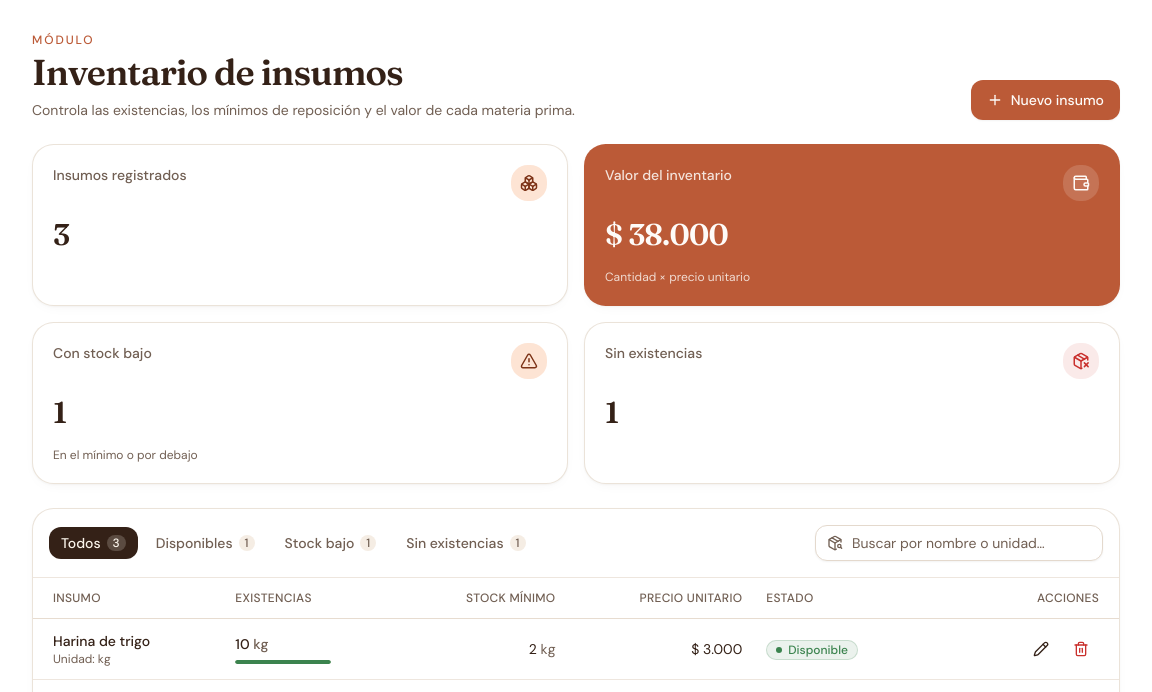
Test: Crear insumo › envía el contrato real del POST con textos recortados y números JSON, y recarga la lista
The image size is (1152, 692).
Expected: the cell "Harina de trigo Unidad: kg" is shown, [33,618,223,679]
Click the button "Nuevo insumo". click: (1045, 100)
box: [971,80,1120,120]
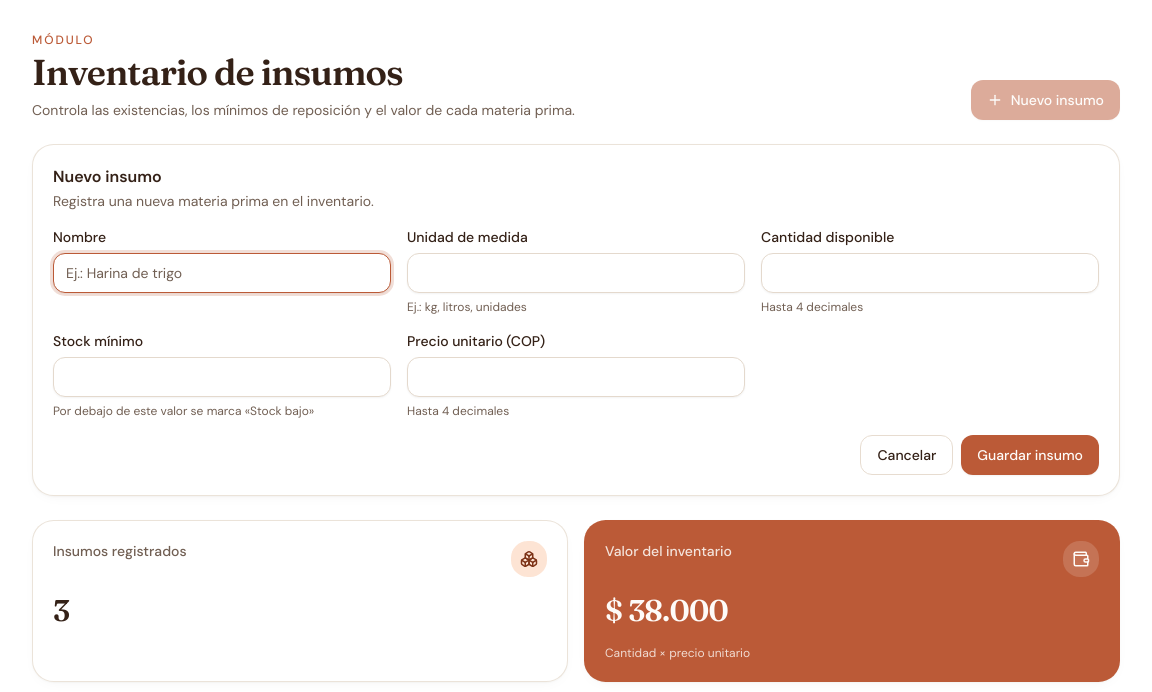
Type "  Sal marina  " into the field labelled "Nombre". click: (222, 273)
box: [53,253,391,293]
Type " kg " into the field labelled "Unidad de medida". click: (576, 273)
box: [407,253,745,293]
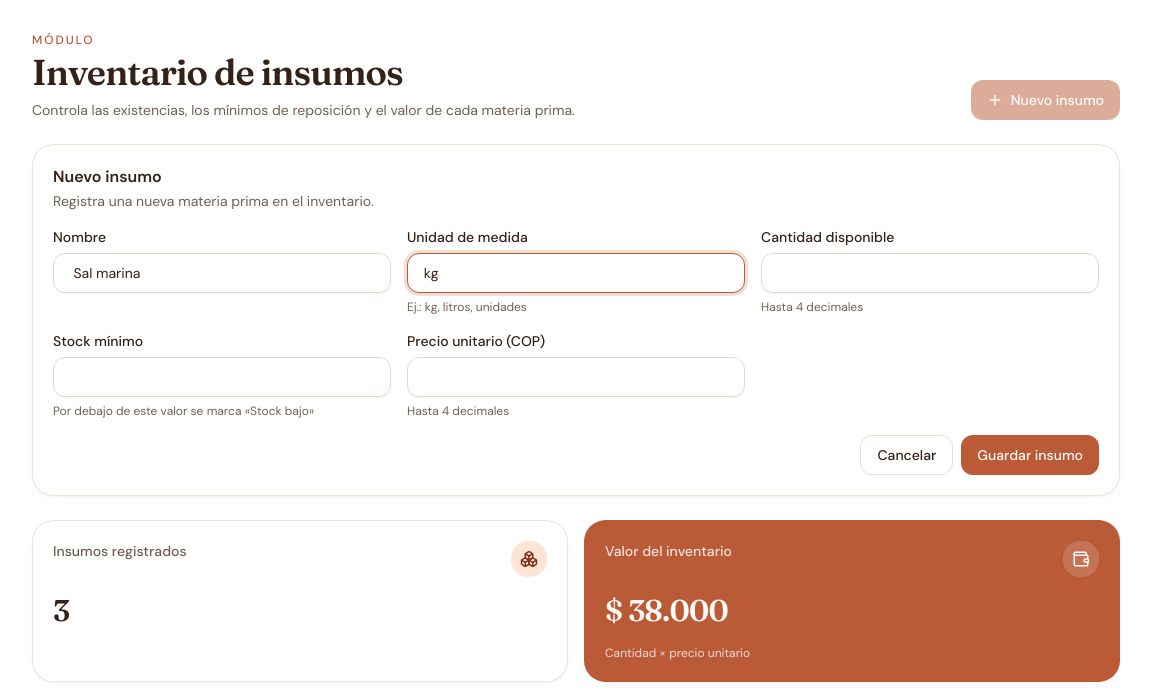
Type "12,5" into the field labelled "Cantidad disponible". click: (930, 273)
box: [761,253,1099,293]
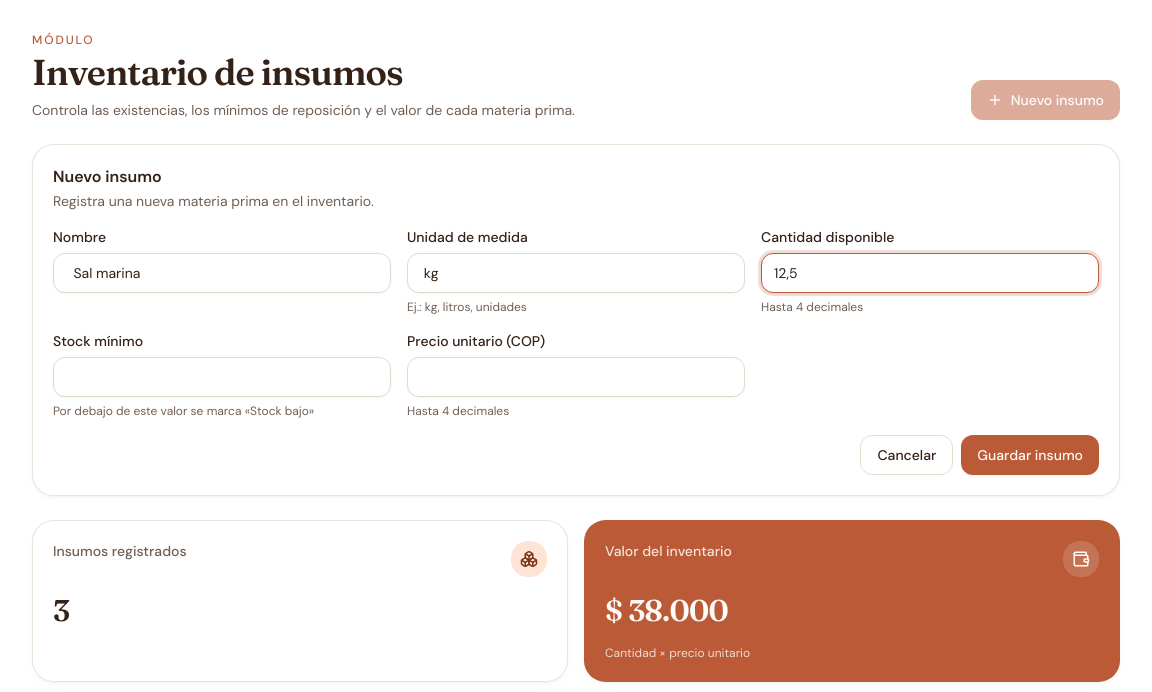
Type "2" into the field labelled "Stock mínimo". click: (222, 377)
box: [53,357,391,397]
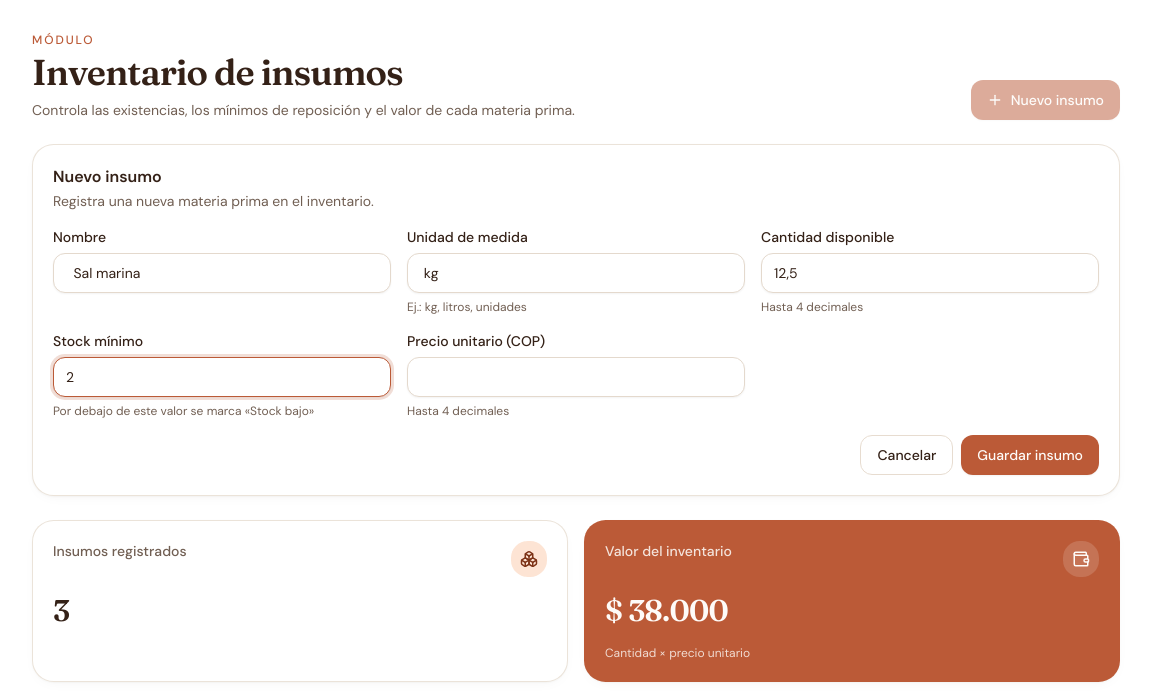
Type "1500" into the field labelled "Precio unitario (COP)". click: (576, 377)
box: [407,357,745,397]
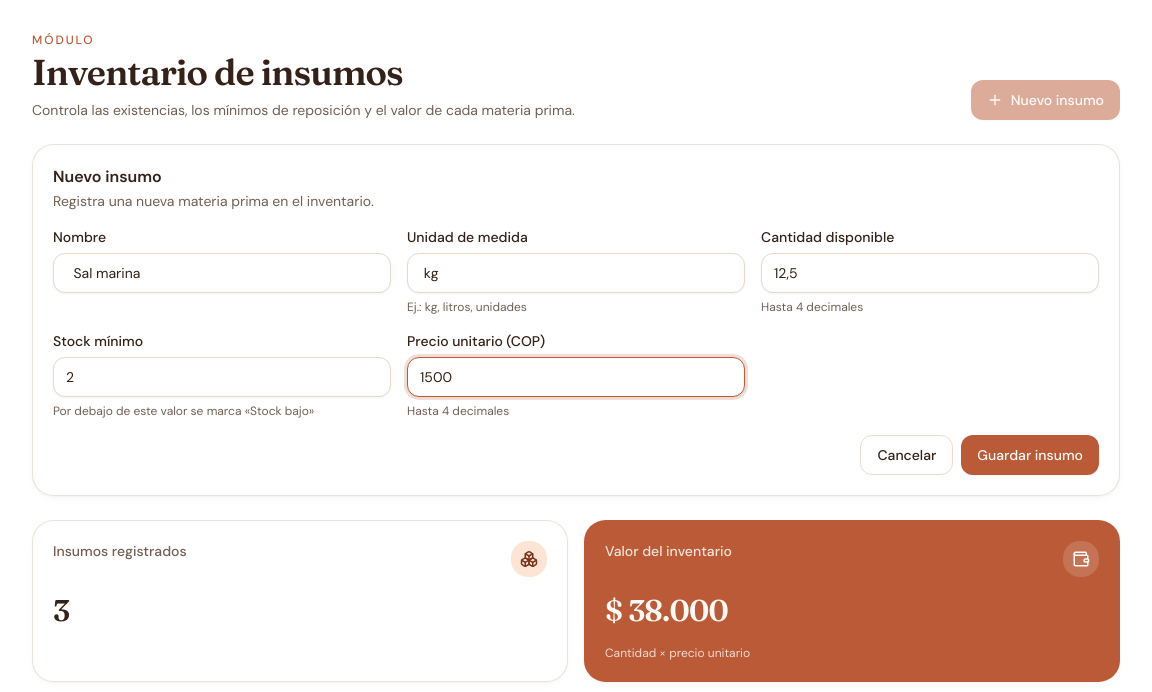
Click the button "Guardar insumo". click: (1030, 455)
box: [961,435,1099,475]
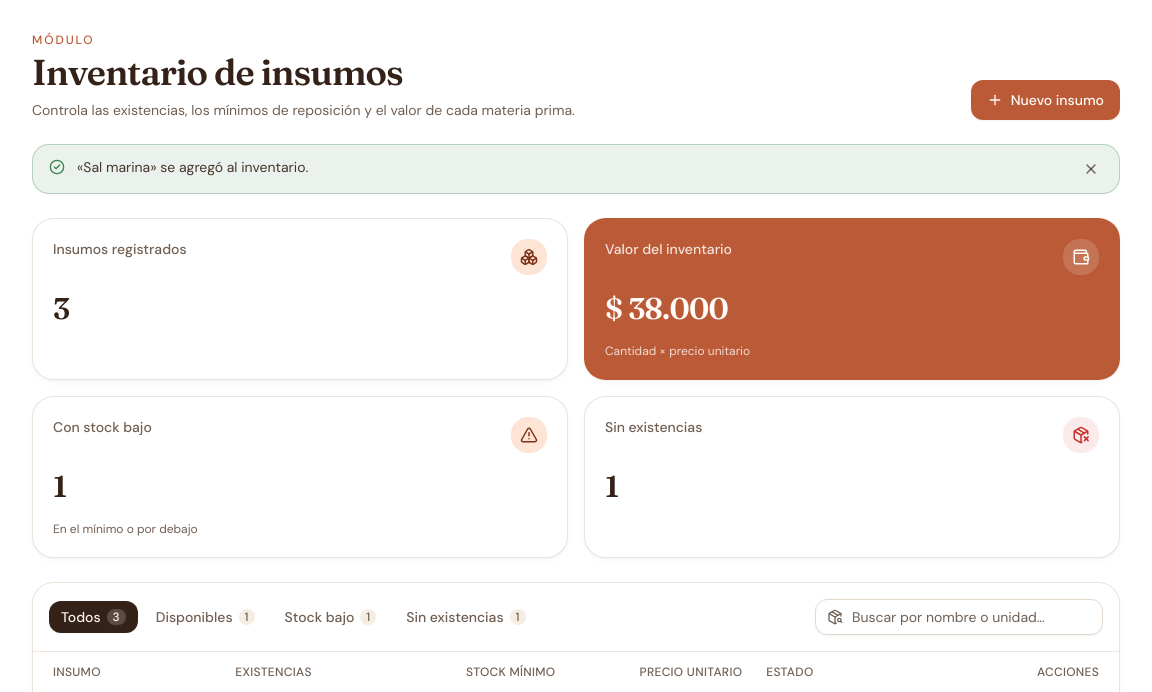
Expected: the text "«Sal marina» se agregó al inventario." is shown, [77,158,308,176]
Expected: the button "Guardar insumo" is gone
